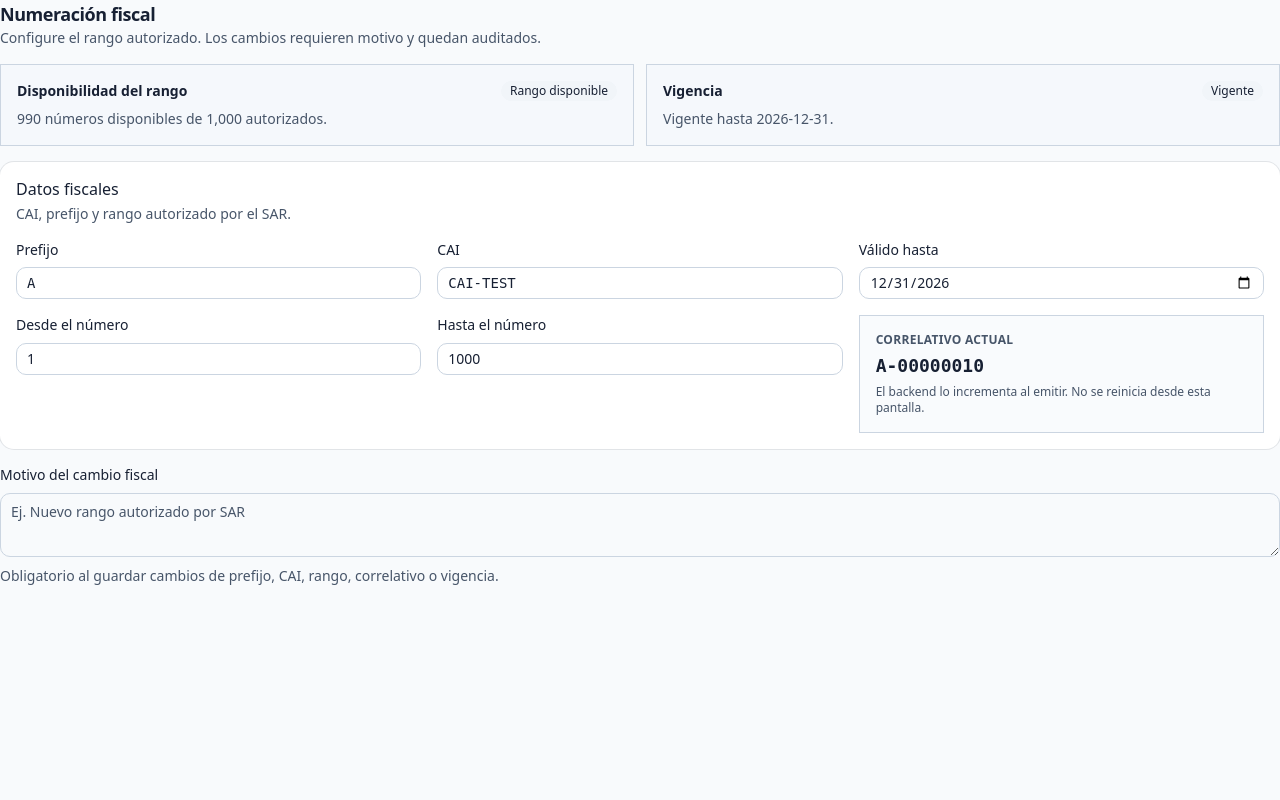
Scenario: FiscalNumerationView › compares every critical fiscal field before saving
This screenshot has width=1280, height=800.
Type "B" into the field labelled "Prefijo" at (219, 283), box x1=16 y1=267 x2=421 y2=299
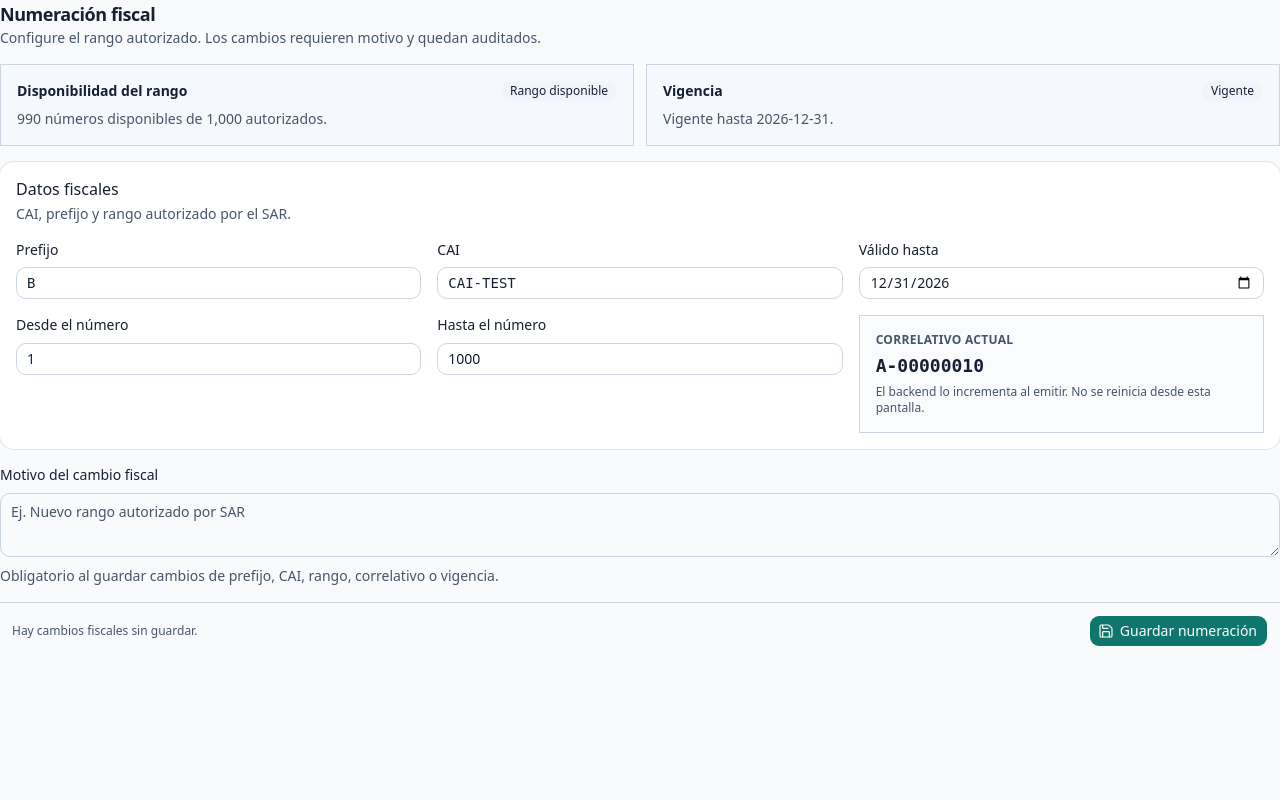
Replace the text in the field labelled "CAI" with "CAI-RENOVADO" at (640, 283), box x1=437 y1=267 x2=843 y2=299
Replace the text in the number field labelled "Desde el número" with "11" at (219, 358), box x1=16 y1=342 x2=421 y2=374
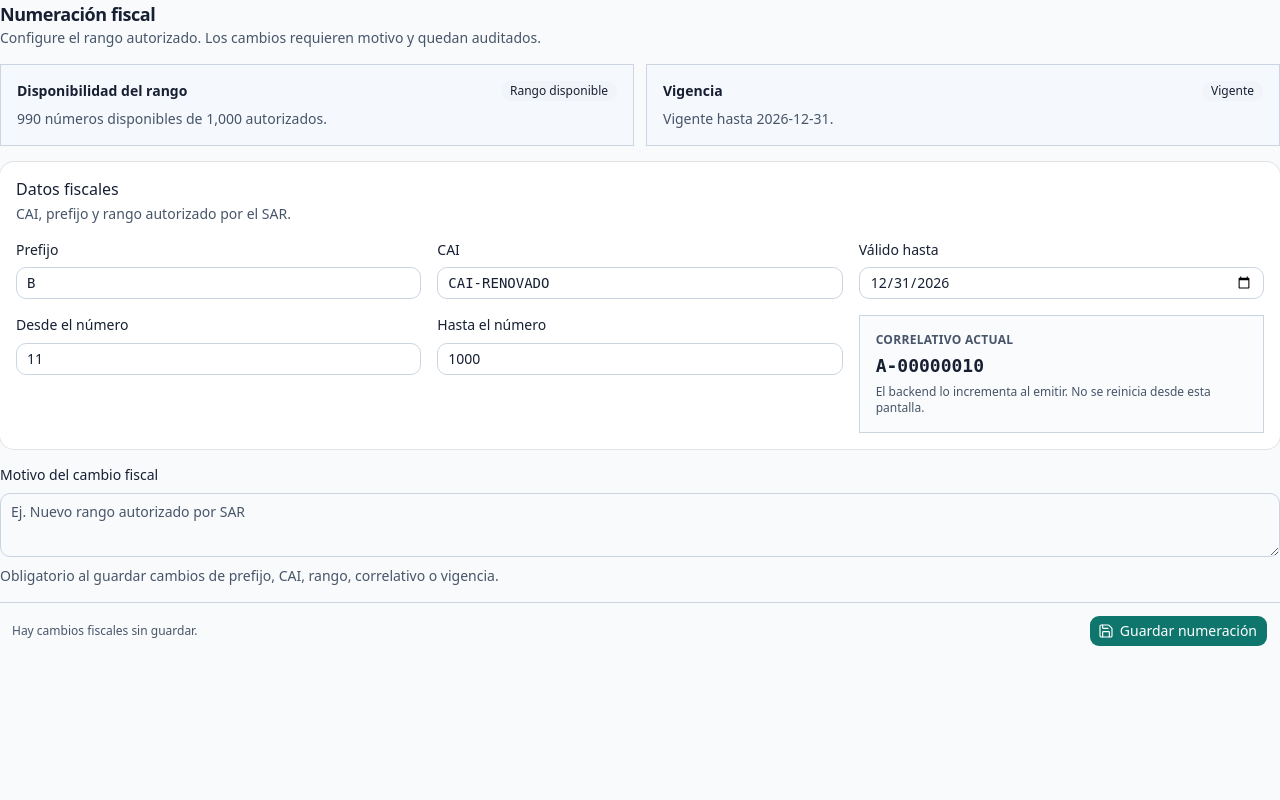
Replace the text in the number field labelled "Hasta el número" with "1100" at (640, 358), box x1=437 y1=342 x2=843 y2=374
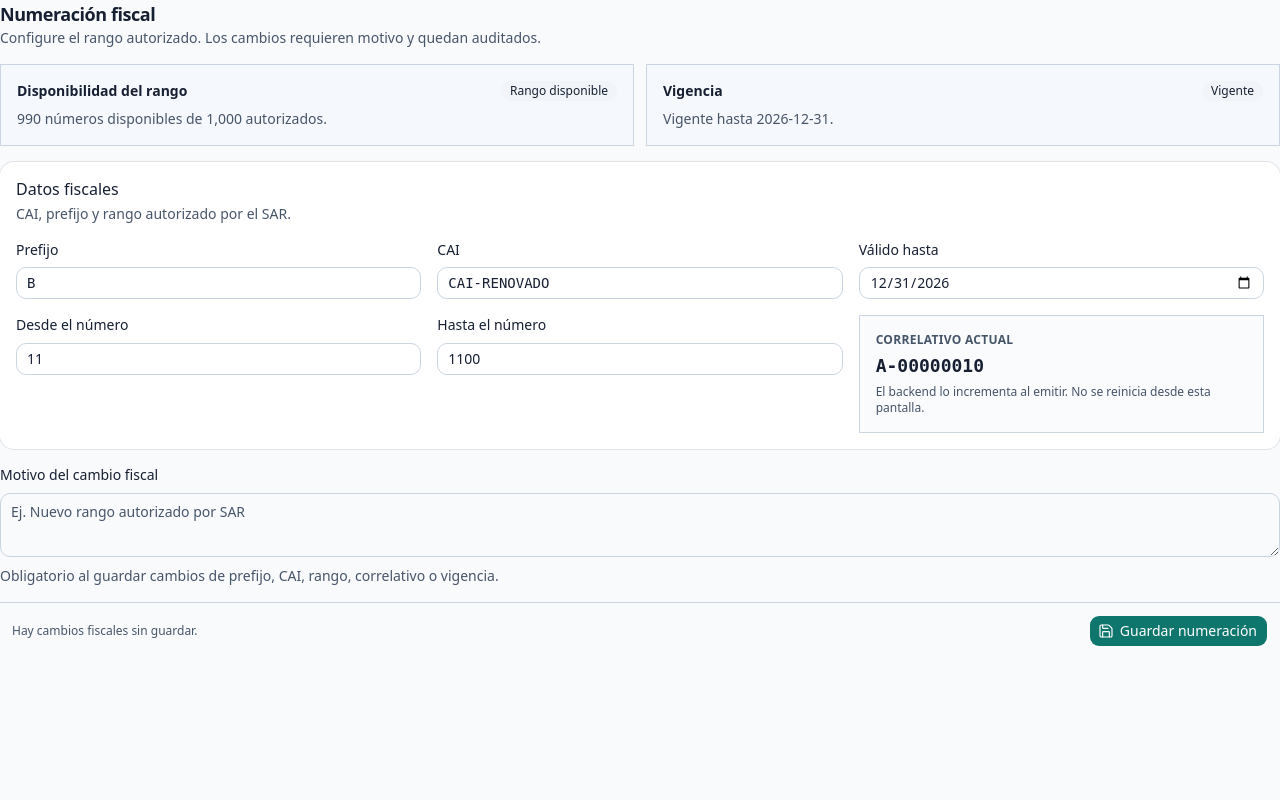
Type "2027-06-30" into the date field labelled "Válido hasta" at (1061, 283), box x1=859 y1=267 x2=1264 y2=299
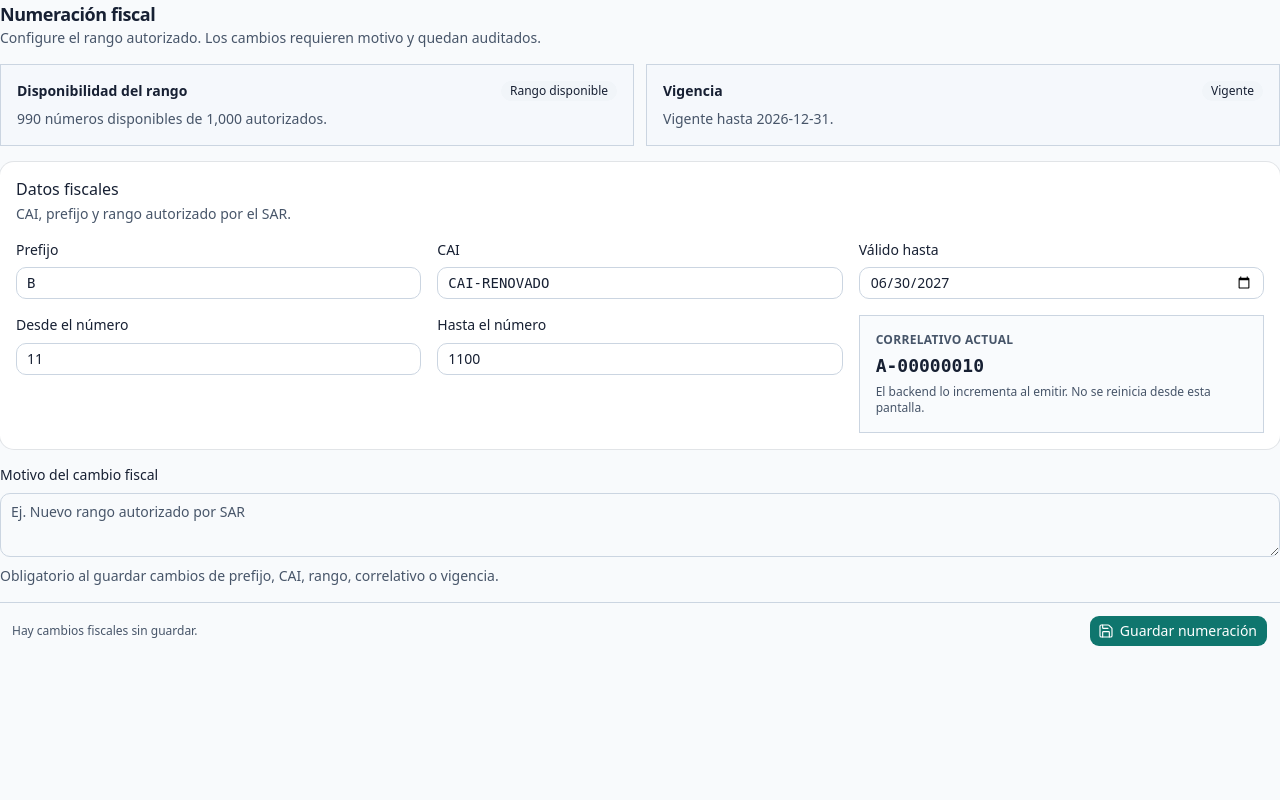
Type "Renovacion fiscal autorizada" into the text box labelled "Motivo del cambio fiscal" at (640, 524), box x1=0 y1=492 x2=1279 y2=556
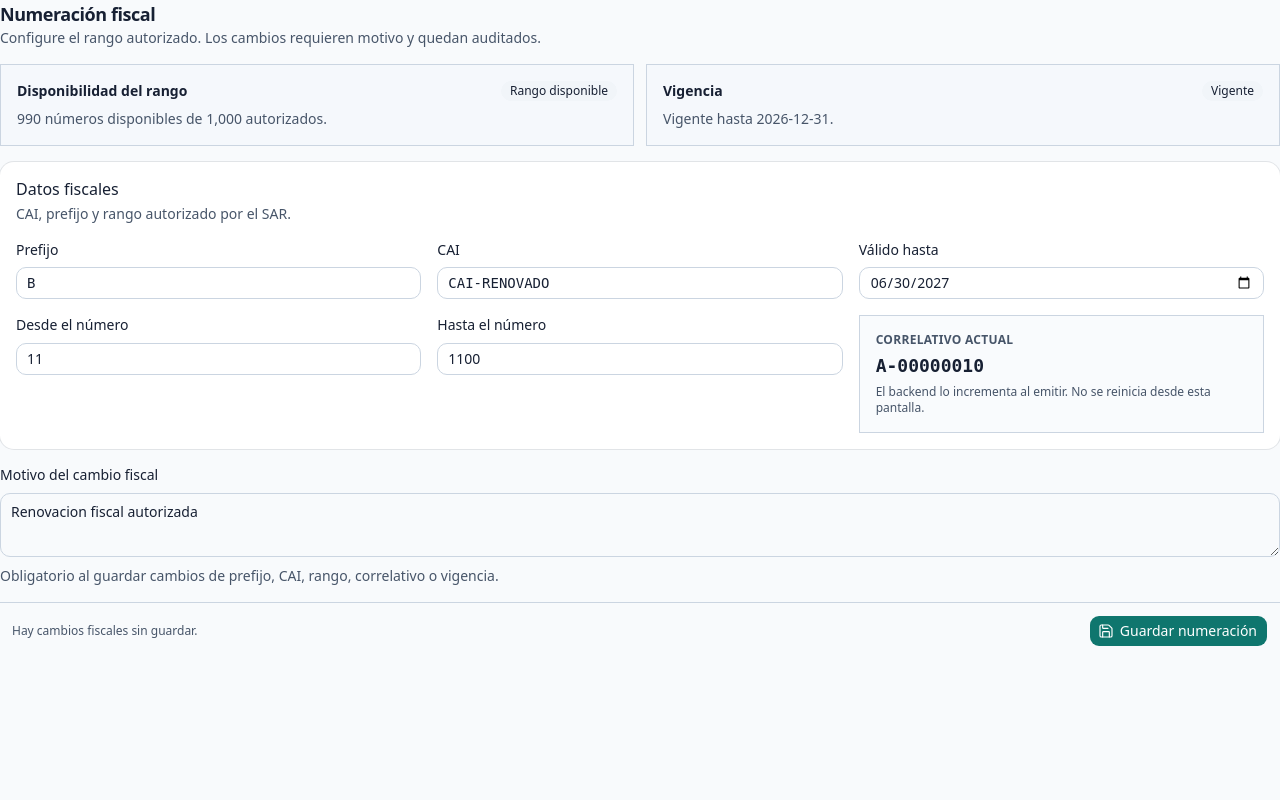
Click the button "Guardar numeración" at (1178, 630), box x1=1089 y1=614 x2=1268 y2=646
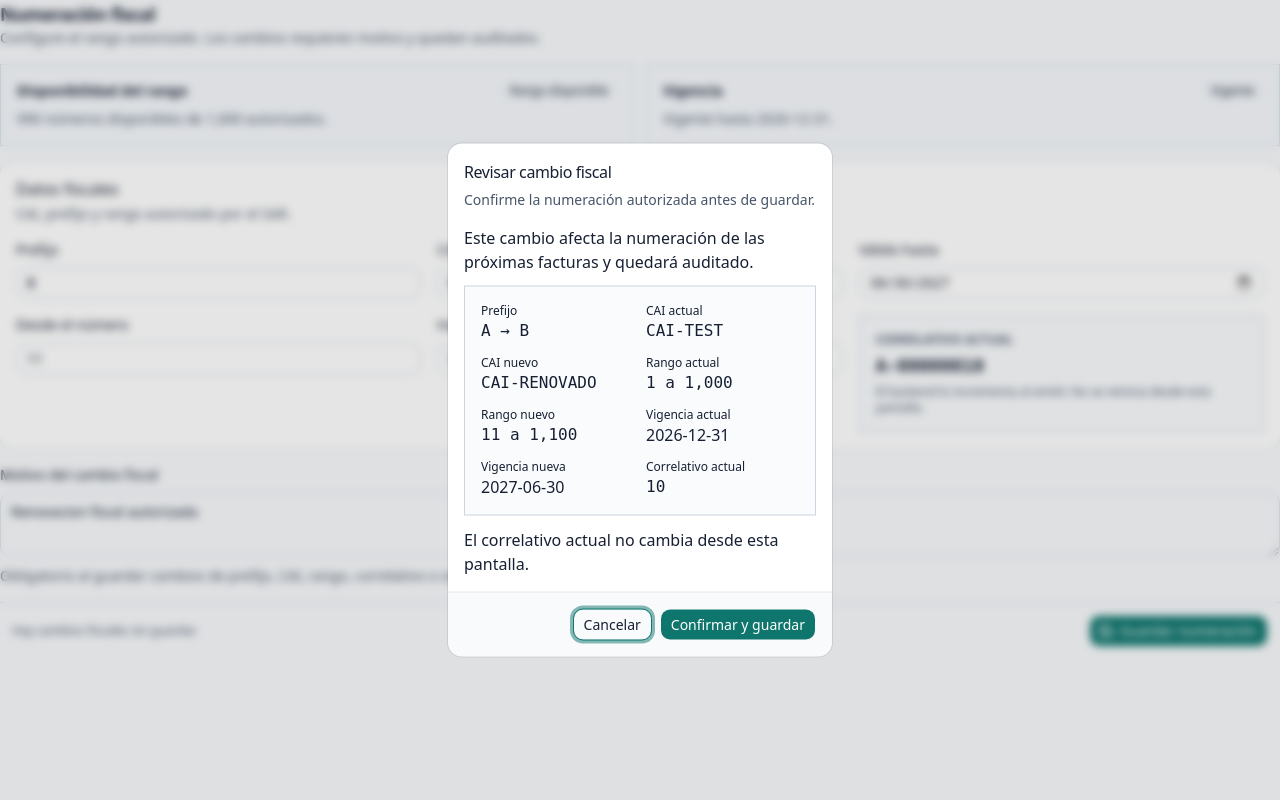
Now the dialog "Revisar cambio fiscal" shows "CAI actual", box x1=646 y1=302 x2=702 y2=318
Now the dialog "Revisar cambio fiscal" shows "CAI-TEST", box x1=646 y1=320 x2=723 y2=340
Now the dialog "Revisar cambio fiscal" shows "CAI nuevo", box x1=481 y1=354 x2=538 y2=370
